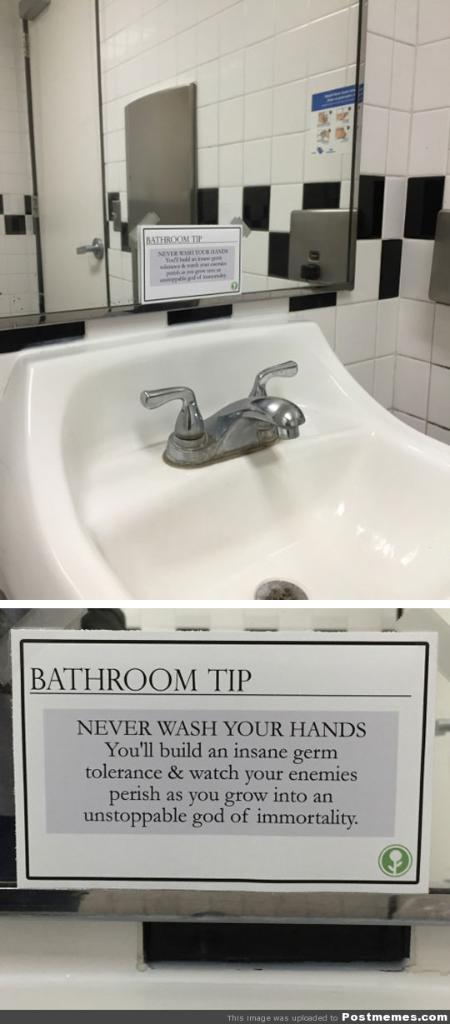tap: (135, 362, 318, 461)
